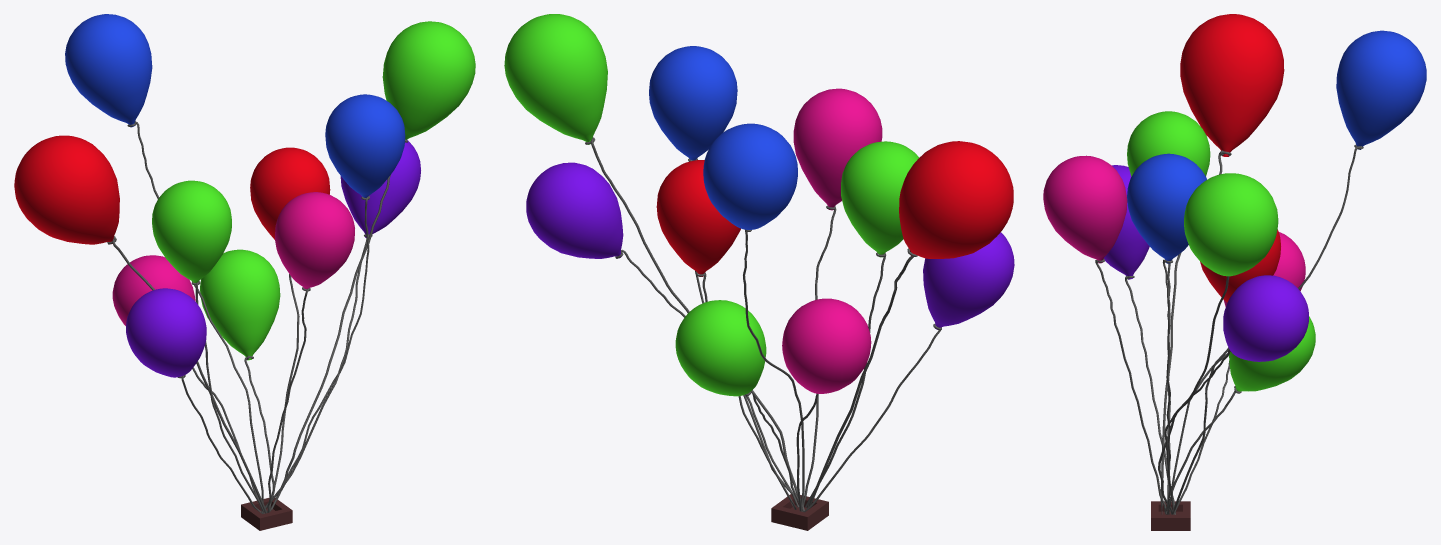
Rendered from Balloon.glb.
3 renders of one model, left to right at view 1: azimuth 30°, elevation 25°; view 2: azimuth 150°, elevation 25°; view 3: azimuth 270°, elevation 25°, orthographic. The views are drawn at different scales.
Parts seen in each view (by area): view 1: red.001, green.002, blue.001, green.001, blue, green, pink, purple, red, purple.001, pink.001, Cube (+8 smaller); view 2: red.001, green.002, blue.001, blue, purple.001, green.001, pink.001, pink, green, red, purple, Cube (+6 smaller); view 3: red.001, blue.001, green.002, pink, purple.001, blue, green, green.001, purple, red, pink.001, Cube (+8 smaller).
Boxes of the visible parts, <box> form: red.001: <box>14,135,119,244</box>; green.002: <box>382,21,475,142</box>; blue.001: <box>65,14,152,127</box>; green.001: <box>200,249,280,360</box>; blue: <box>325,94,405,200</box>; green: <box>152,180,231,285</box>; pink: <box>275,192,354,289</box>; purple: <box>126,288,206,377</box>; red: <box>250,147,330,239</box>; purple.001: <box>340,140,420,237</box>; pink.001: <box>112,255,195,325</box>; Cube: <box>241,497,292,530</box>; red.001: <box>899,141,1013,258</box>; green.002: <box>504,14,607,144</box>; blue.001: <box>703,123,797,229</box>; blue: <box>649,46,737,160</box>; purple.001: <box>526,162,623,258</box>; green.001: <box>675,300,766,396</box>; pink.001: <box>782,298,871,393</box>; pink: <box>793,88,882,210</box>; green: <box>841,141,919,257</box>; red: <box>656,160,740,276</box>; purple: <box>923,232,1014,329</box>; Cube: <box>771,494,828,530</box>; red.001: <box>1180,14,1284,156</box>; blue.001: <box>1336,30,1426,149</box>; green.002: <box>1184,173,1278,276</box>; pink: <box>1043,155,1127,263</box>; purple.001: <box>1223,275,1308,361</box>; blue: <box>1127,153,1206,263</box>; green: <box>1127,111,1210,176</box>; green.001: <box>1229,316,1315,392</box>; purple: <box>1104,165,1149,279</box>; red: <box>1200,229,1280,302</box>; pink.001: <box>1224,232,1305,306</box>; Cube: <box>1151,501,1190,530</box>.
Size of the model in its own units: 1.76 by 1.67 by 1.25.
